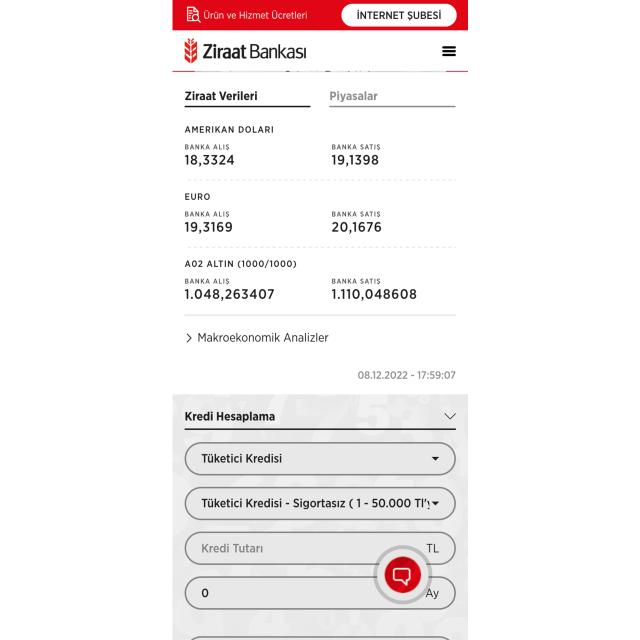logo: (180, 35, 310, 68)
navigation: (441, 43, 457, 60)
